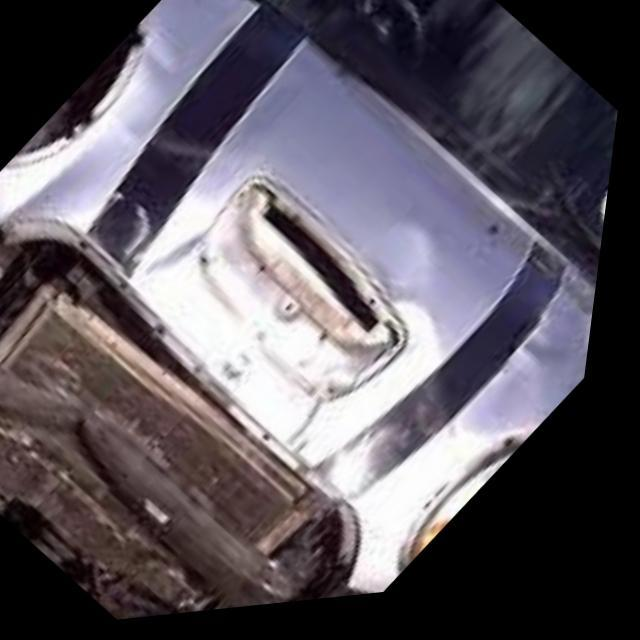dent: (399, 233, 440, 314), (153, 237, 208, 293)
glass shatter: (251, 0, 622, 317)
lamp broken: (8, 19, 148, 171)
no part: (0, 238, 394, 624)
